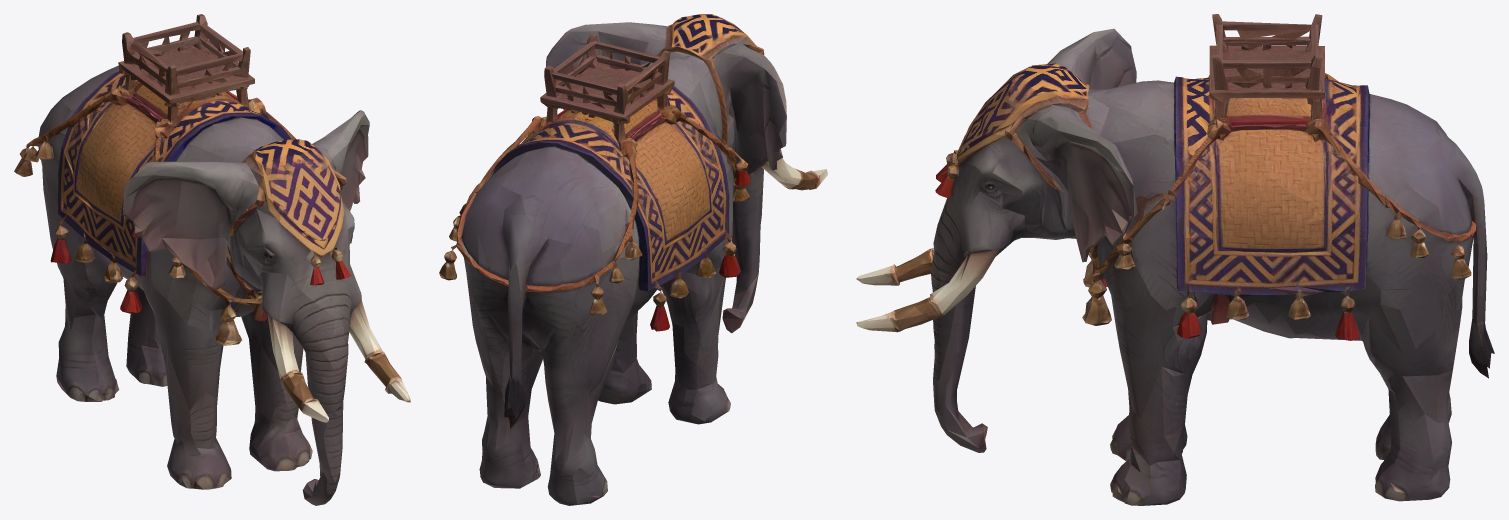
The model's file is elephant.glb.
3 views of the same model, side by side, from view 1: azimuth 30°, elevation 25°; view 2: azimuth 150°, elevation 25°; view 3: azimuth 270°, elevation 25° (orthographic). The views are drawn at different scales.
Size of the model in its own units: 0.9461 by 1.43 by 1.9.
1 material, 1 textured.
